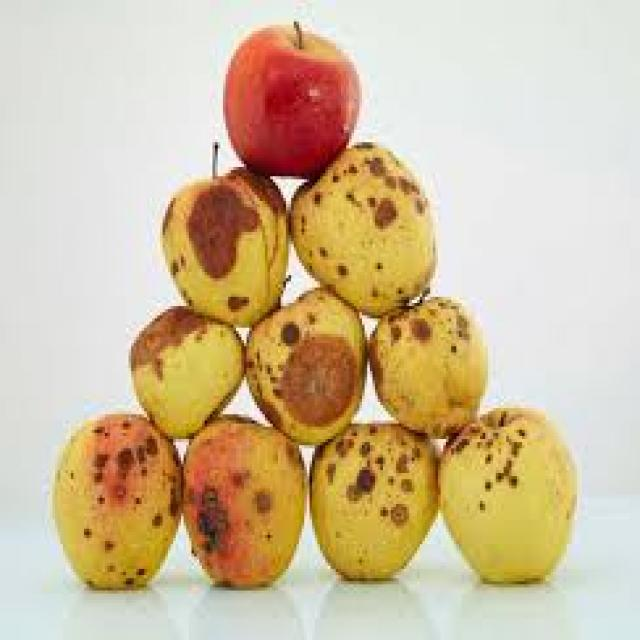Fresh Apple: (220, 31, 356, 177)
Rotten: (437, 412, 576, 589), (57, 421, 181, 594), (172, 165, 300, 326), (182, 423, 296, 584), (300, 160, 430, 295), (312, 428, 430, 574), (254, 297, 372, 433), (376, 301, 487, 443), (116, 306, 235, 426)
